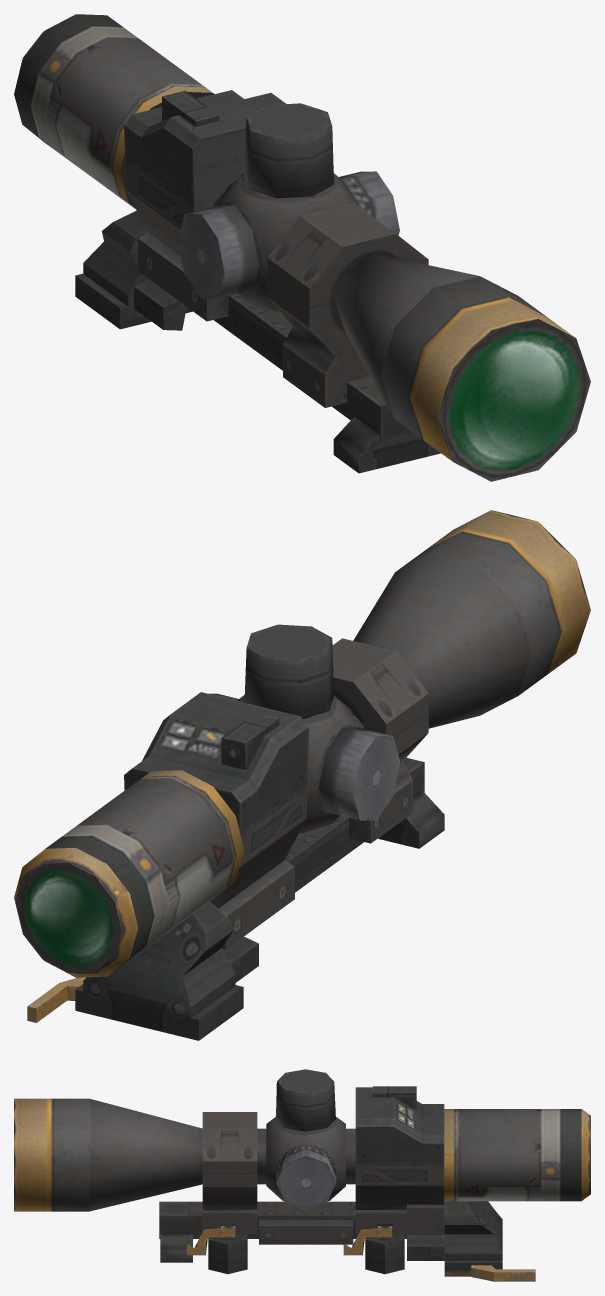
The model's file is Sniper_Rifle_jjq_jmj_03_Sniper_Scope_Main_(000328).glb.
The picture shows the model from 3 angles, top to bottom: view 1: azimuth 30°, elevation 25°; view 2: azimuth 150°, elevation 25°; view 3: azimuth 270°, elevation 25°; orthographic projection. The views are drawn at different scales.
Parts seen in each view (by area): view 1: jjq_jmj_03; view 2: jjq_jmj_03; view 3: jjq_jmj_03.
Part boxes in pixels (x1,y1,x2,y2): jjq_jmj_03: (14,14,590,481); jjq_jmj_03: (14,510,590,1040); jjq_jmj_03: (14,1069,590,1281).
Bounding box in the file's own units: 0.0765 × 0.1131 × 0.3367.
1 material, 1 textured.
